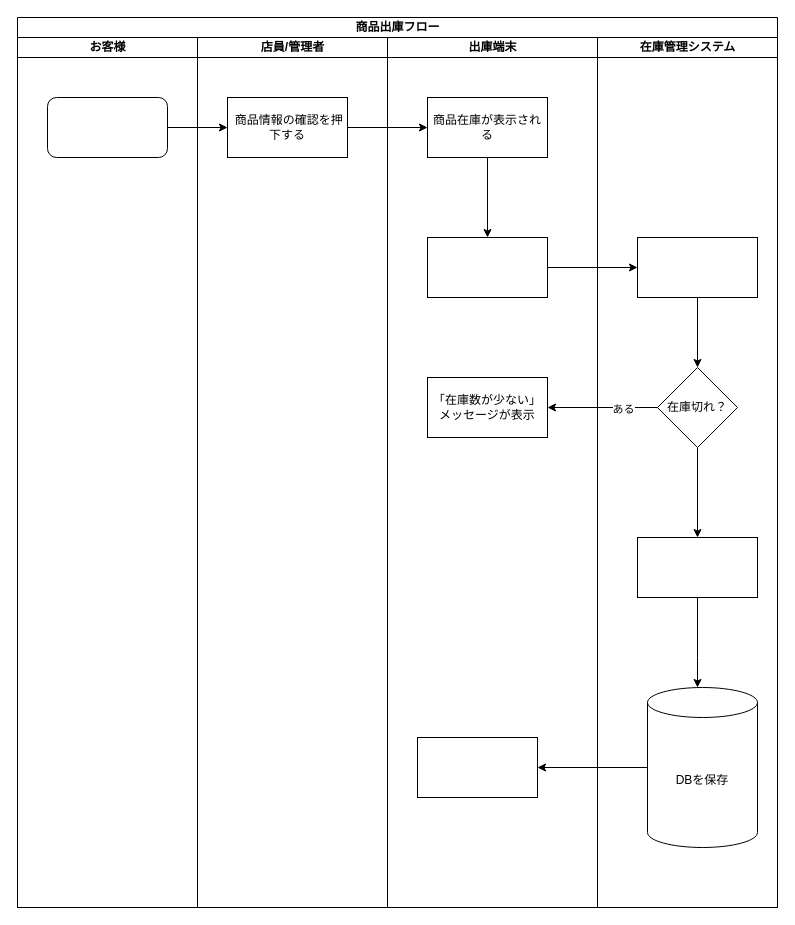
Some shapes in this 795 by 925 pixel diagram are drawn without their labels. The centre of each missing label's shape, as x and y in pixels:
"出荷ログを記録する" goes at (x=697, y=567).
"出荷完了メッセージ" goes at (x=477, y=767).
"在庫数を減らす" goes at (x=487, y=267).
"在庫確認" goes at (x=697, y=267).
"製品を購入" goes at (x=107, y=127).
